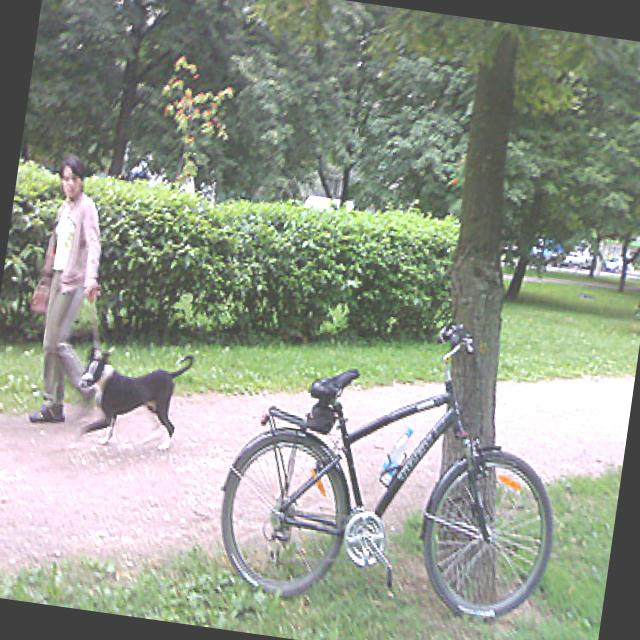Vehicle: (603, 254, 636, 275), (561, 250, 587, 270)
